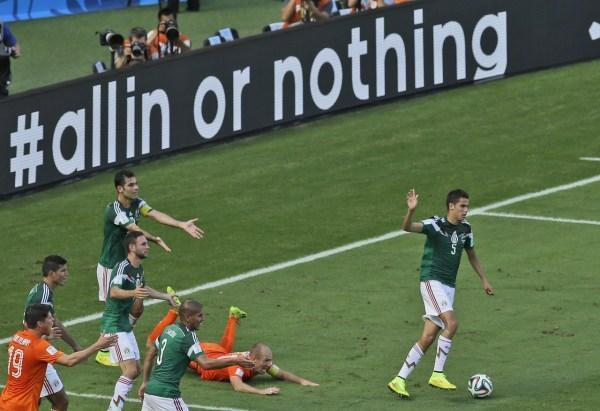Fall-Detected: (163, 295, 321, 403)
